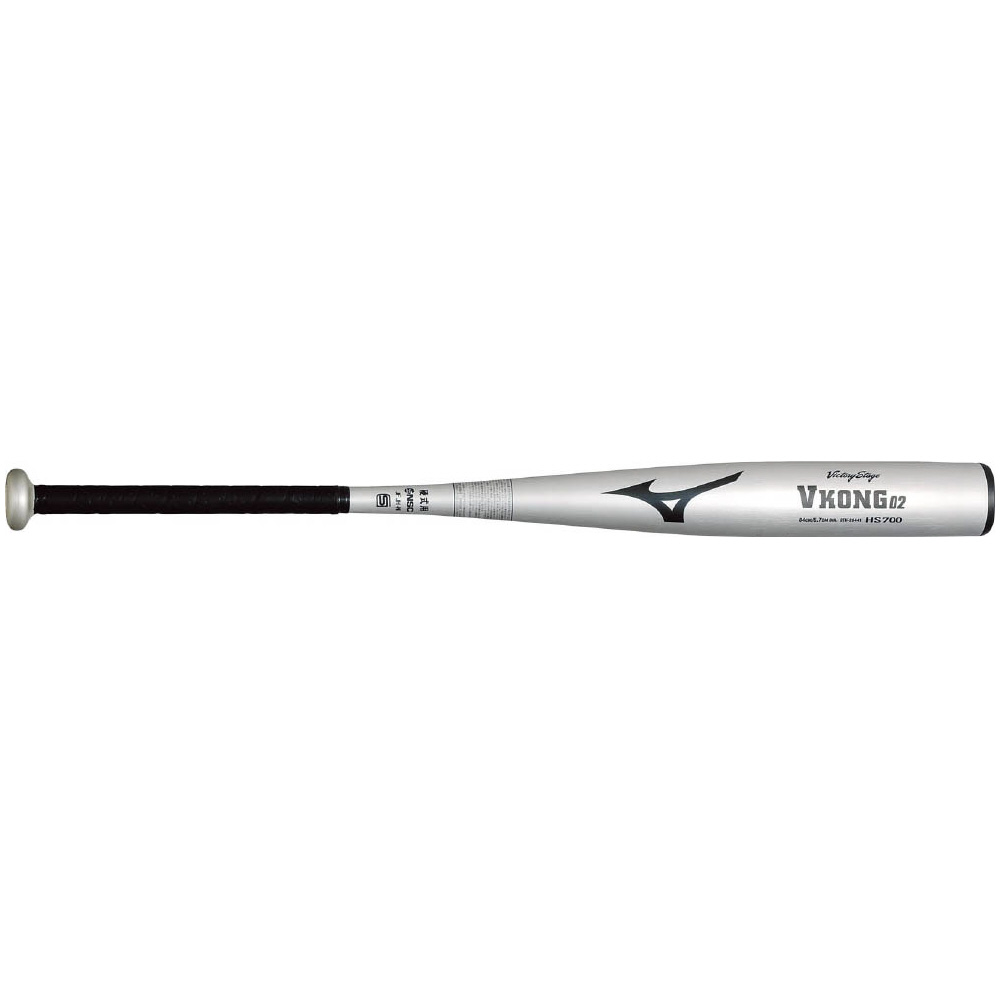bat: (1, 459, 1000, 543)
